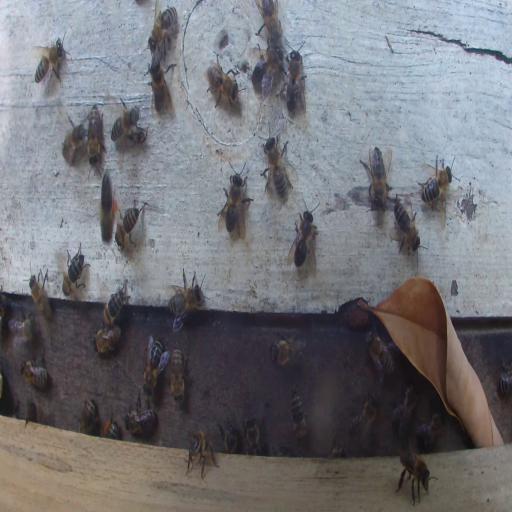nonpollenbee: (216, 164, 254, 237), (166, 265, 208, 331), (287, 198, 320, 272), (260, 132, 292, 200), (418, 152, 454, 210), (278, 45, 308, 114), (396, 451, 434, 505), (361, 143, 391, 209), (32, 35, 69, 87), (392, 194, 422, 256), (184, 427, 218, 479), (205, 58, 238, 108), (147, 56, 175, 114), (110, 97, 144, 143), (268, 330, 308, 368), (249, 42, 283, 85), (148, 5, 178, 51), (366, 332, 396, 378), (62, 244, 88, 296), (28, 268, 53, 321), (349, 392, 379, 436), (101, 283, 130, 327), (114, 206, 143, 250), (391, 382, 417, 431), (143, 336, 164, 394), (62, 115, 86, 164), (20, 354, 50, 390), (416, 411, 444, 449), (87, 104, 103, 170), (290, 390, 308, 444), (256, 0, 280, 40), (124, 406, 156, 435), (170, 346, 185, 403), (93, 324, 121, 354), (8, 310, 34, 342), (244, 416, 262, 455), (78, 399, 98, 433), (218, 422, 238, 453), (499, 359, 511, 397), (26, 401, 37, 423), (330, 442, 347, 456)
pollenbee: (98, 169, 118, 246), (102, 416, 122, 443)
